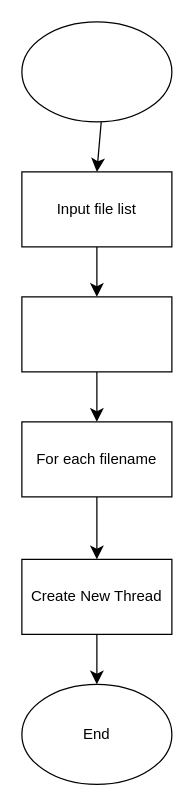
This 194x806 diagram has some shape labels left out. Each missing label, with the box of its shape:
Split string into list: (21, 296, 172, 372)
Start: (21, 21, 172, 122)
